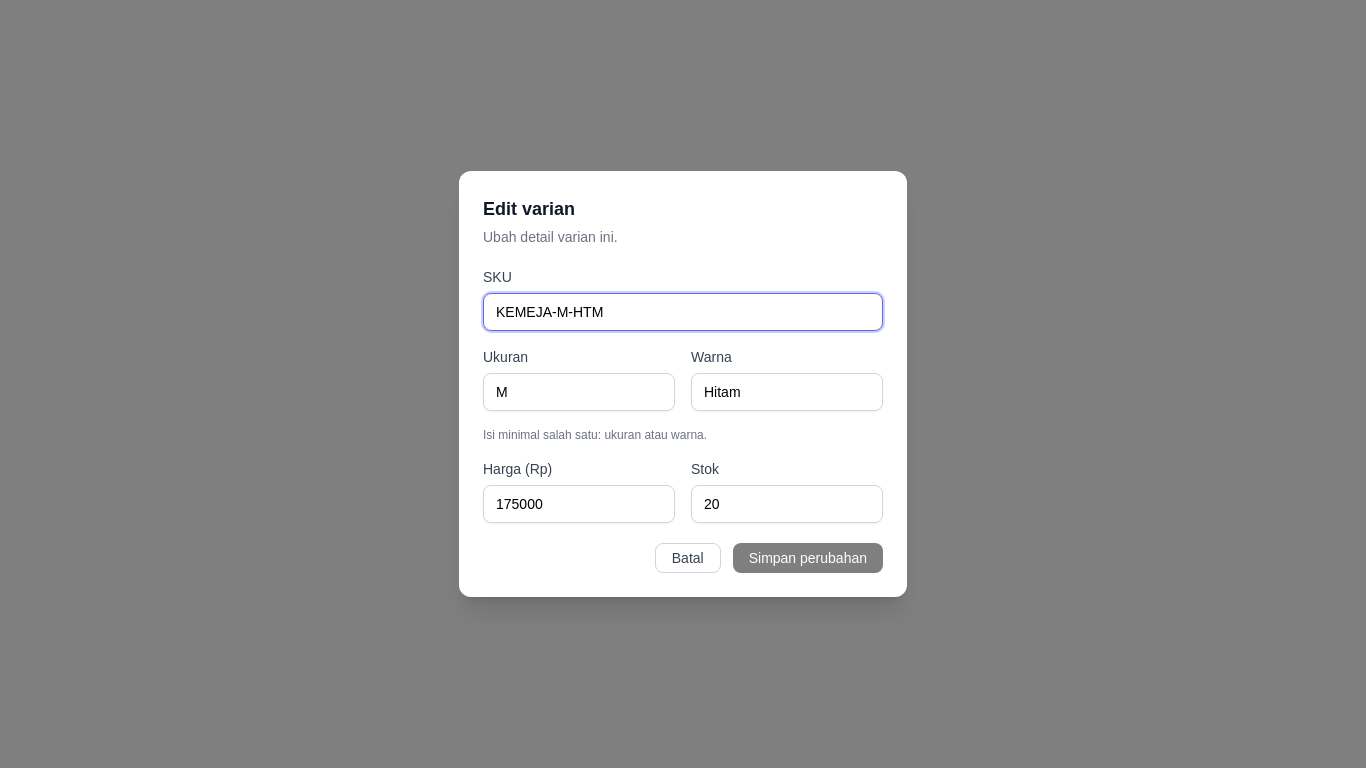
VariantEditModal › Validasi Client-Side (Zod) › menampilkan error pada field Ukuran jika ukuran dan warna sama-sama dikosongkan
Clear the field labelled "Ukuran" at [579, 392], box top-left (483, 373), bottom-right (675, 411)
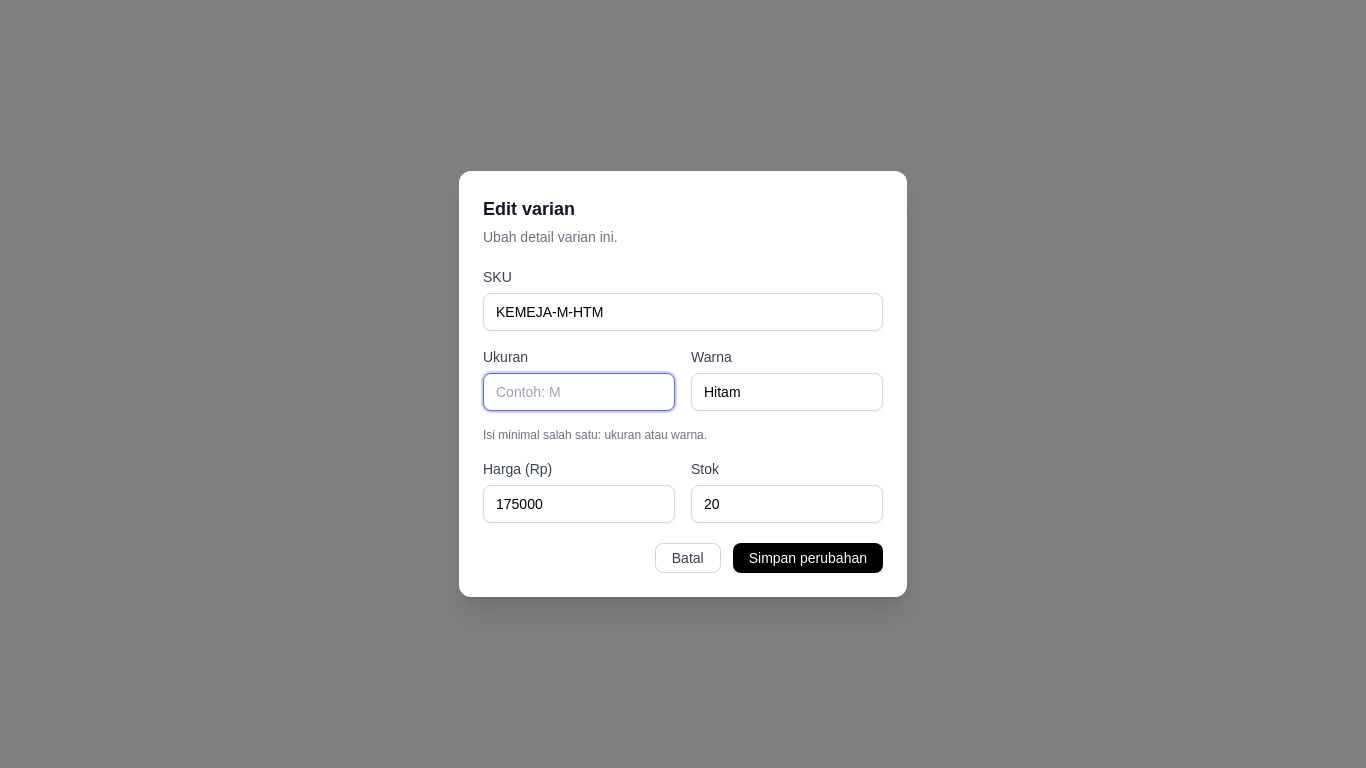
Clear the field labelled "Warna" at [787, 392], box top-left (691, 373), bottom-right (883, 411)
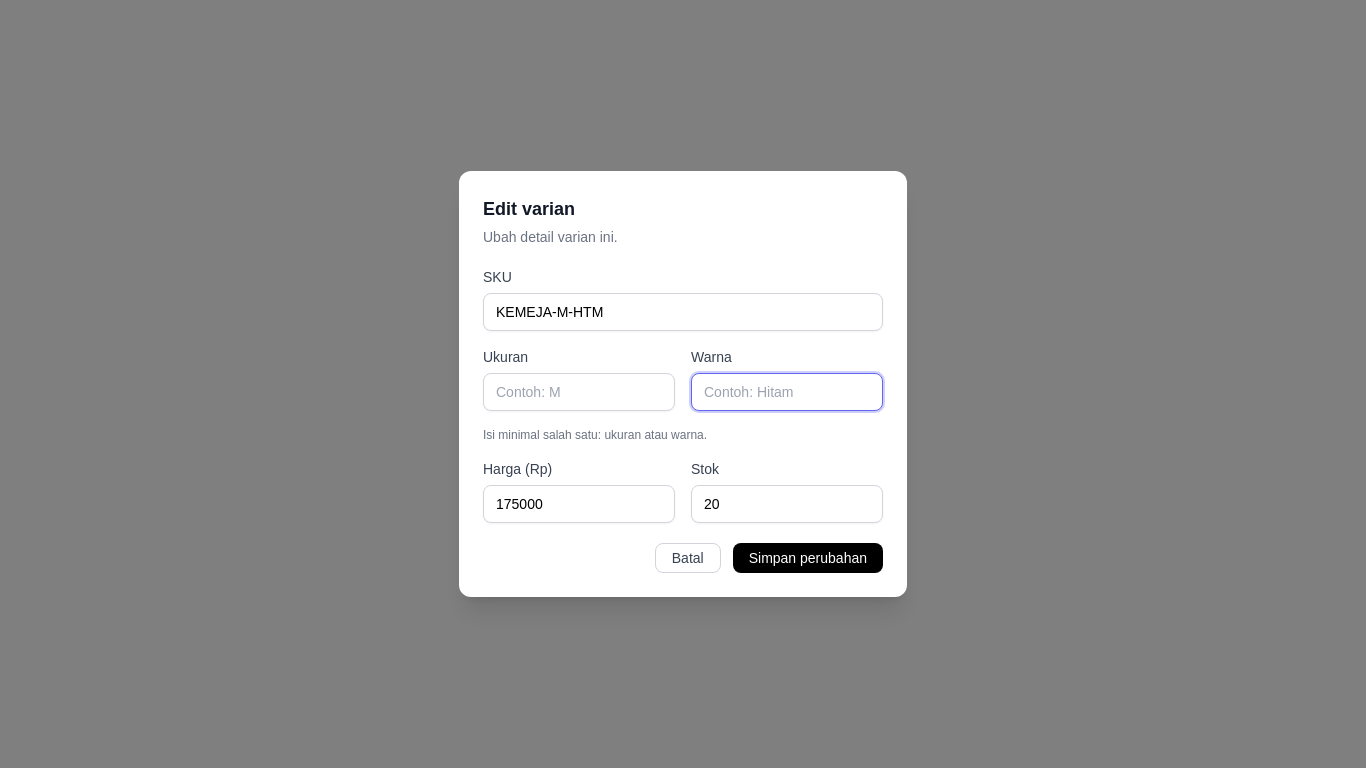
Click the button "Simpan perubahan".
click(808, 558)  # box top-left (733, 543), bottom-right (883, 573)
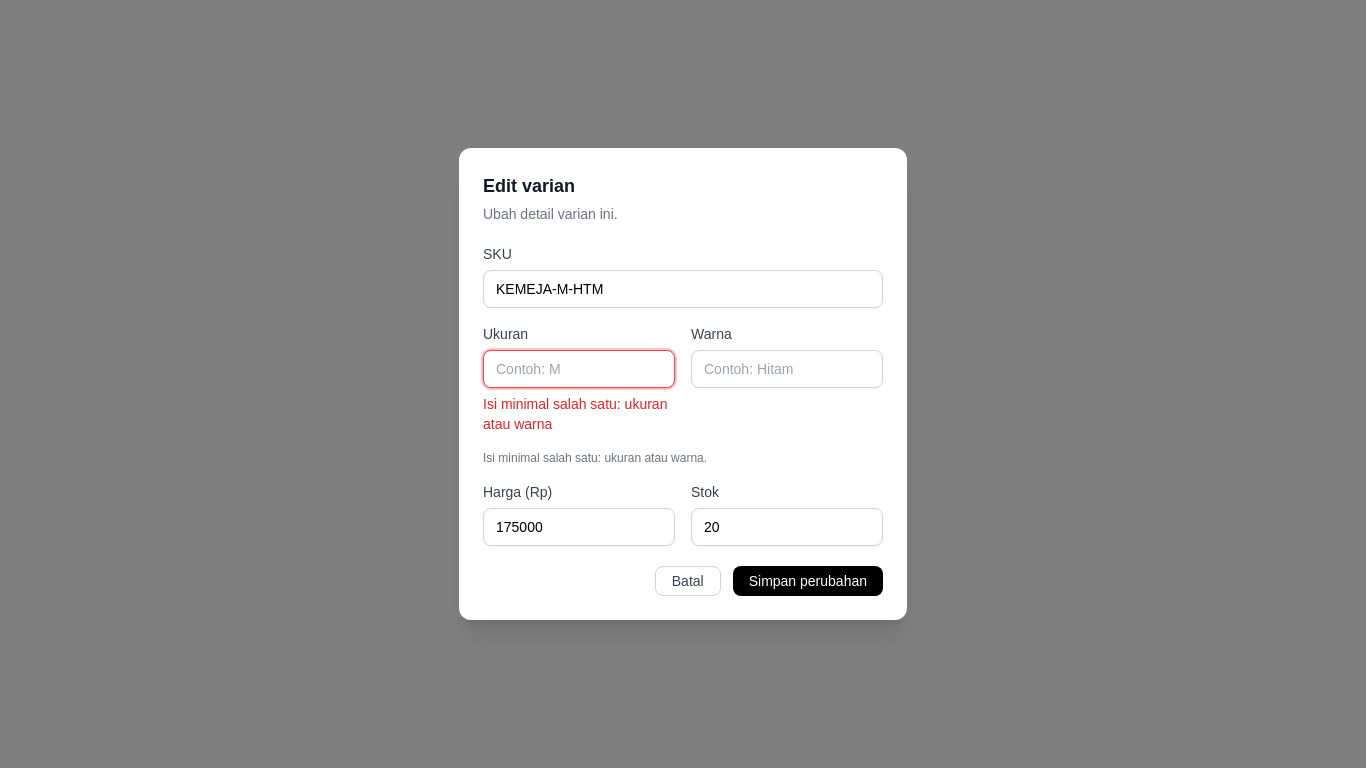
Result: the field labelled "Ukuran" is marked as invalid at top-left (483, 350), bottom-right (675, 388)
